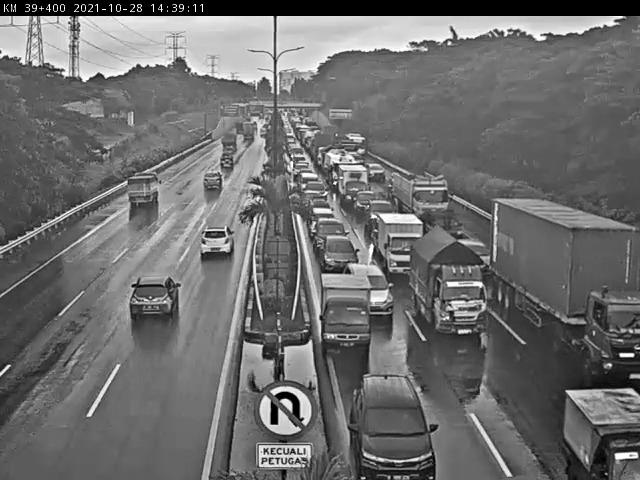big truck: (483, 175, 640, 393), (384, 171, 452, 226)
car: (335, 363, 445, 476), (119, 265, 187, 330), (344, 256, 394, 318), (194, 219, 241, 267), (316, 231, 361, 274), (454, 232, 491, 277), (310, 216, 351, 256), (197, 169, 225, 196)
small truck: (395, 219, 497, 340), (547, 383, 640, 480), (311, 267, 375, 361), (371, 210, 429, 277), (123, 166, 164, 210)
